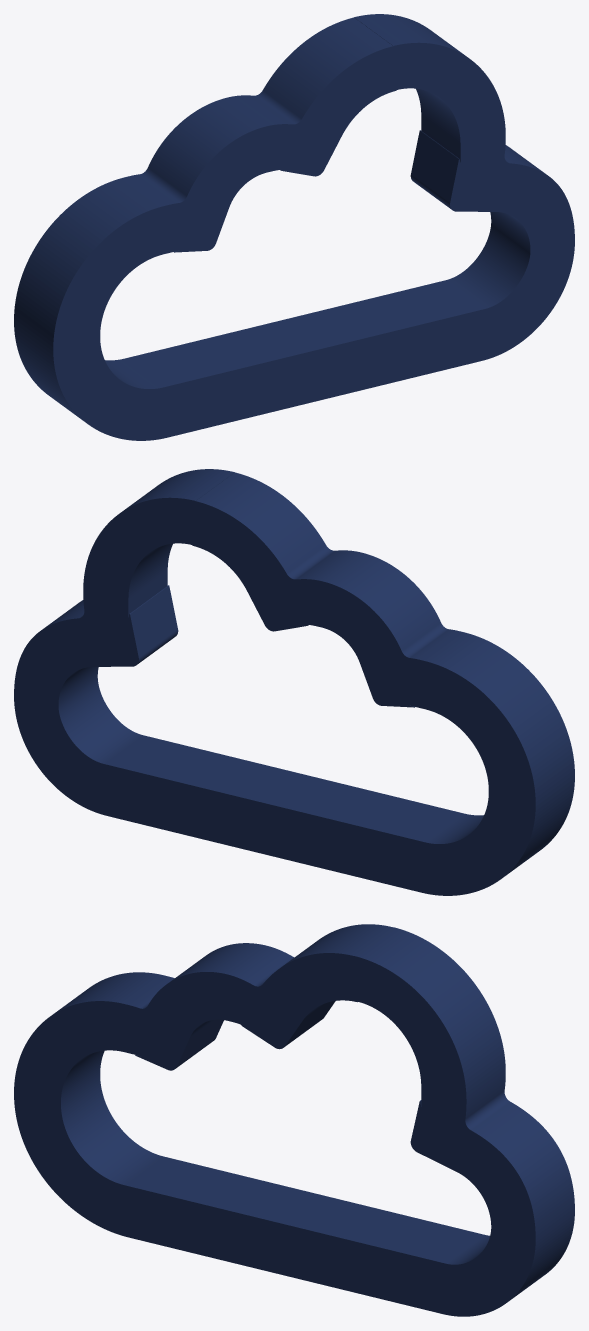
File: Cloudtech_cloud_blue.glb
3 views of the same model, one above another, from view 1: azimuth 30°, elevation 25°; view 2: azimuth 150°, elevation 25°; view 3: azimuth 330°, elevation 25° (orthographic).
Size of the model in its own units: 322 by 199 by 42.
